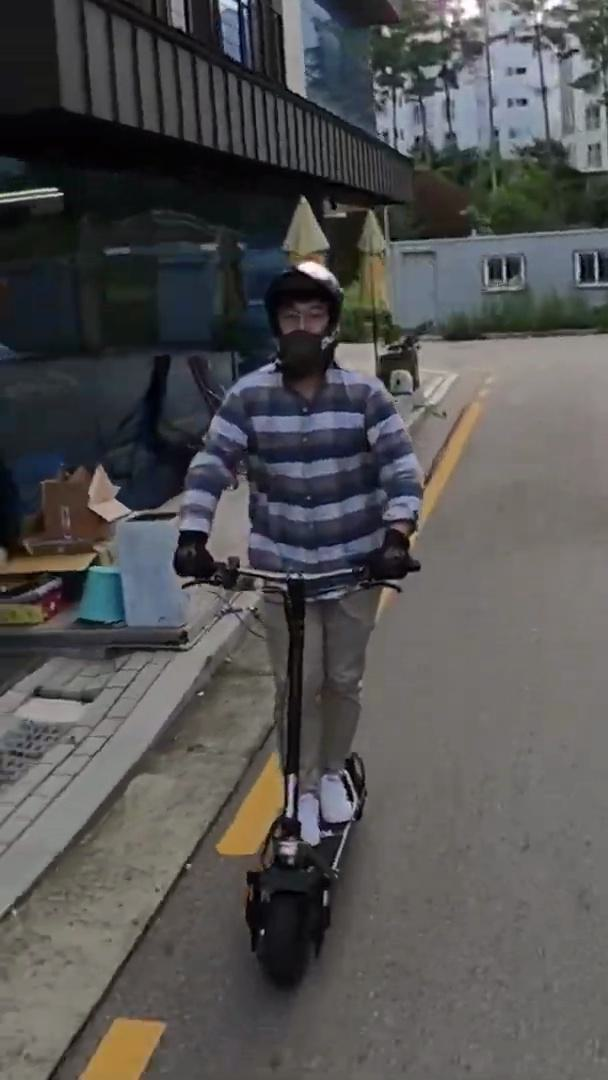helmet: (169, 259, 427, 993)
